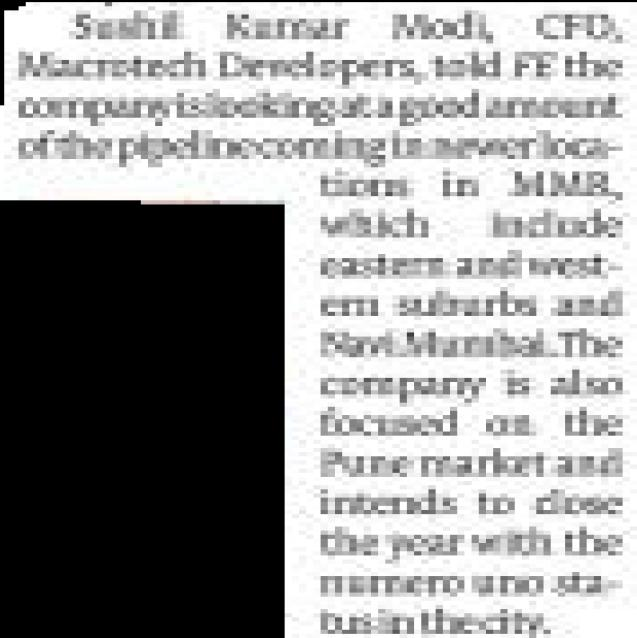paper: (1, 1, 637, 638)
